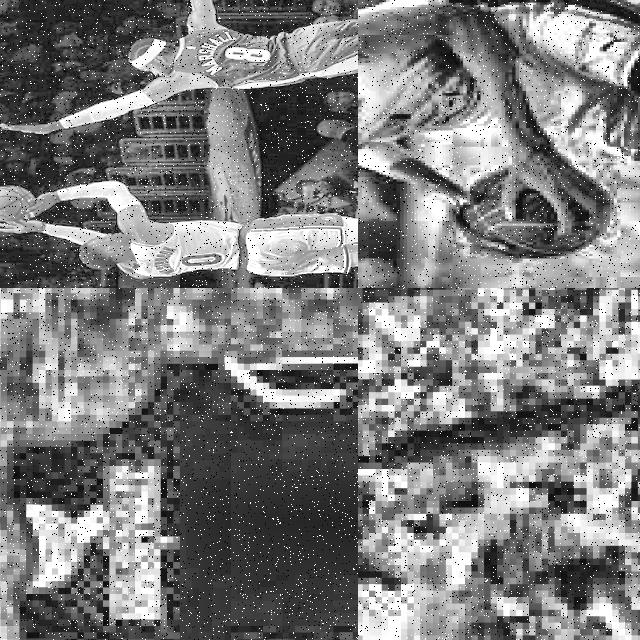Basketball: (456, 167, 605, 257), (0, 186, 32, 220)
